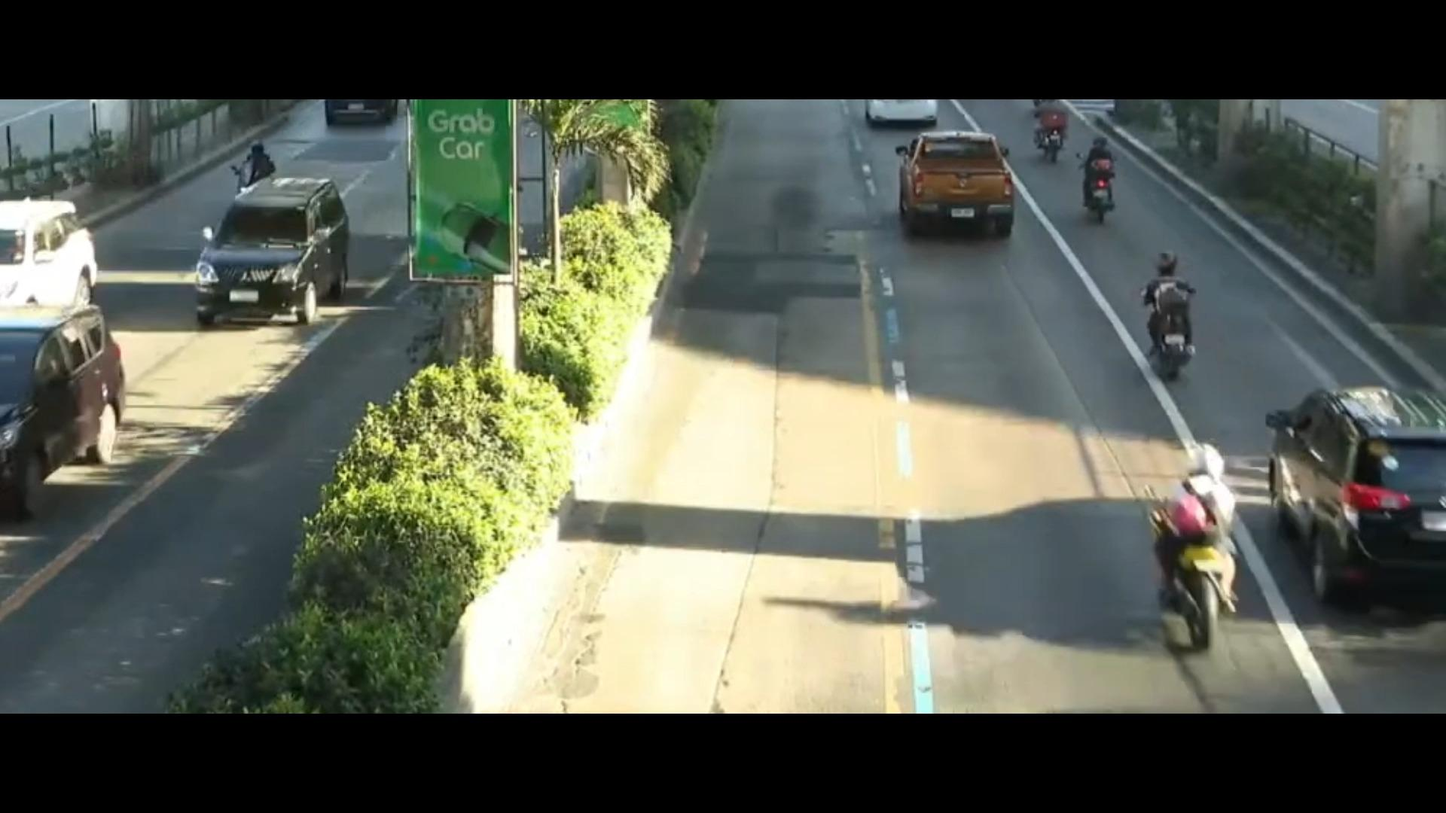Motorcycle: (1139, 443, 1278, 655), (1132, 251, 1207, 381), (1069, 136, 1132, 226), (1013, 98, 1081, 163), (230, 145, 279, 190)
Pickup: (872, 126, 1028, 241)
SUV: (1247, 356, 1446, 619), (171, 175, 378, 345), (0, 300, 149, 517), (0, 177, 119, 312)
